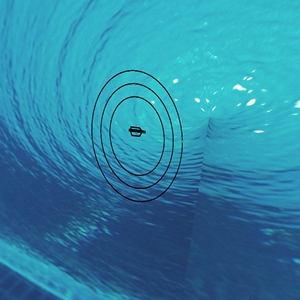submarine: (130, 121, 143, 137)
